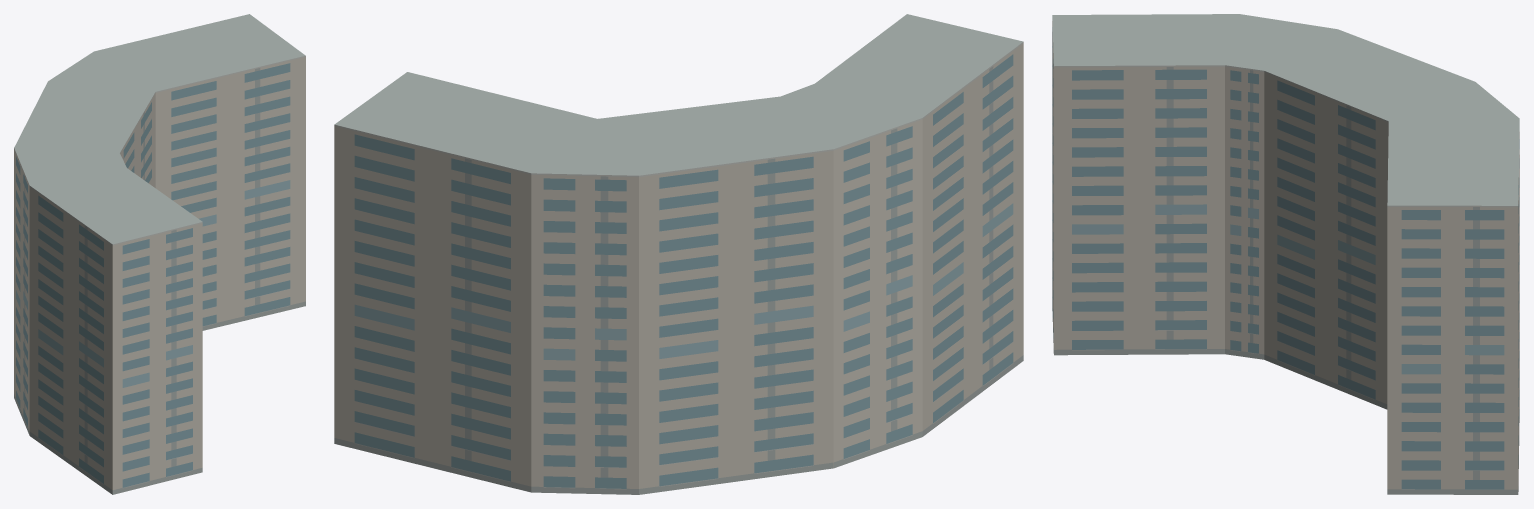
The model's file is residential-3daccb0b-3eec-490f-a516-96a2e0013846.glb.
3 renders of one model, left to right at view 1: azimuth 30°, elevation 25°; view 2: azimuth 150°, elevation 25°; view 3: azimuth 270°, elevation 25°, orthographic. The views are drawn at different scales.
Visible parts, largest first — view 1: residential-3daccb0b-3eec-490f-a516-96a2e0013846.tmp; view 2: residential-3daccb0b-3eec-490f-a516-96a2e0013846.tmp; view 3: residential-3daccb0b-3eec-490f-a516-96a2e0013846.tmp.
Part boxes in pixels (x1,y1,x2,y2): residential-3daccb0b-3eec-490f-a516-96a2e0013846.tmp: (14,14,305,494); residential-3daccb0b-3eec-490f-a516-96a2e0013846.tmp: (334,14,1023,494); residential-3daccb0b-3eec-490f-a516-96a2e0013846.tmp: (1052,14,1519,494).
Bounding box in the file's own units: 75.47 × 53 × 77.68.
